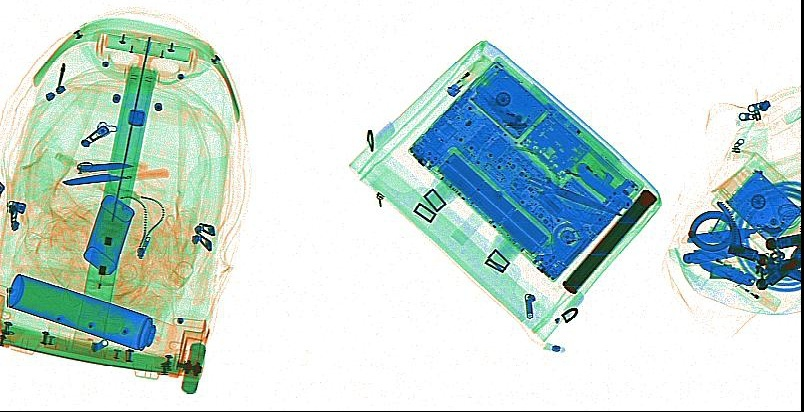handcuffs: (686, 199, 799, 281)
knife: (575, 162, 633, 207), (679, 222, 799, 243), (693, 248, 756, 286), (57, 167, 169, 186), (681, 243, 739, 265), (70, 158, 133, 173)
lighter: (445, 53, 490, 98)
pressure: (5, 272, 178, 358)
scissors: (505, 163, 623, 216)
zippooil: (82, 193, 135, 274)
